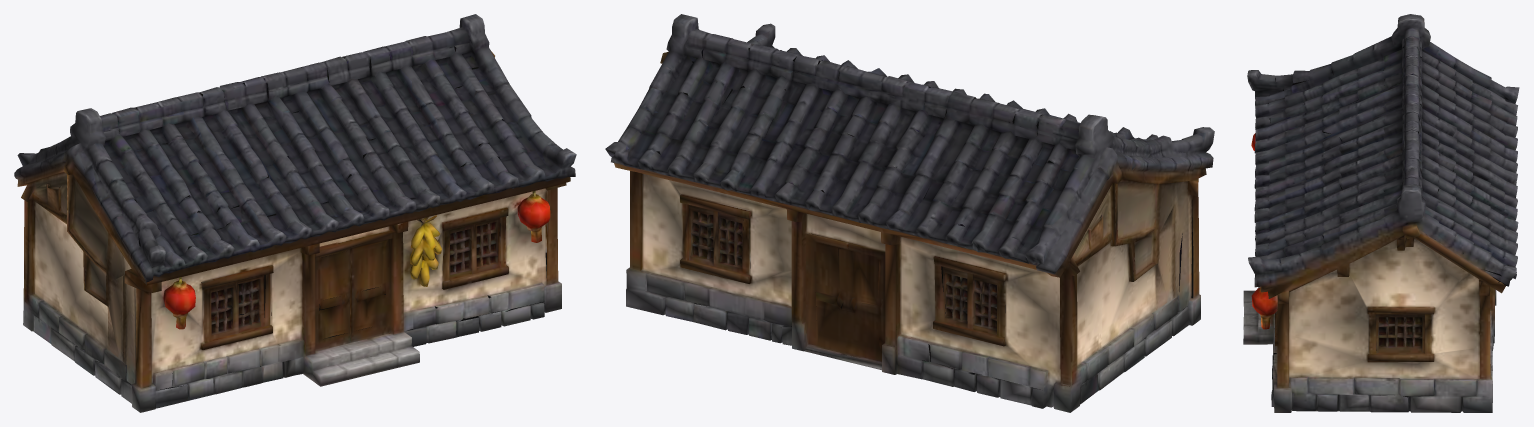
The model's file is bq_farmhouse.bk.glb.
3 views of the same model, side by side, from view 1: azimuth 30°, elevation 25°; view 2: azimuth 150°, elevation 25°; view 3: azimuth 270°, elevation 25° (orthographic). The views are drawn at different scales.
Visible parts, largest first — view 1: lo; view 2: lo; view 3: lo.
Part boxes in pixels (x1=…): lo: x1=14, y1=14, x2=576, y2=412; lo: x1=605, y1=14, x2=1214, y2=412; lo: x1=1243, y1=14, x2=1519, y2=412.
Bounding box in the file's own units: 1.92 × 1.02 × 1.16.
1 material, 1 textured.
